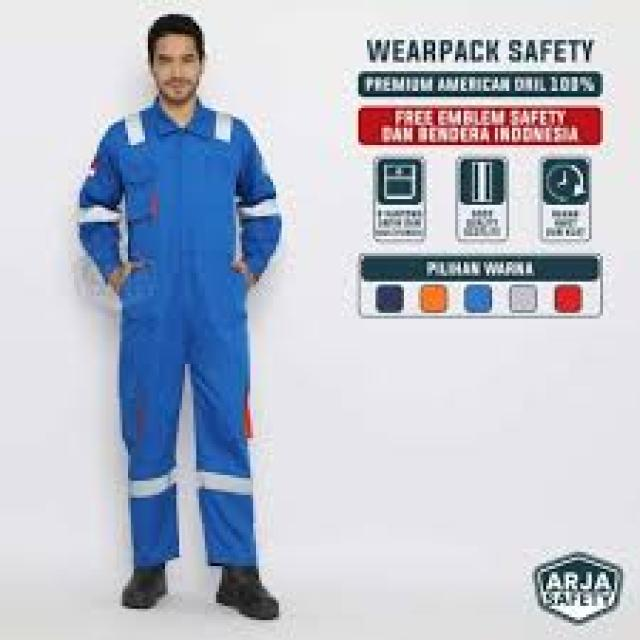vest: (76, 99, 282, 566)
